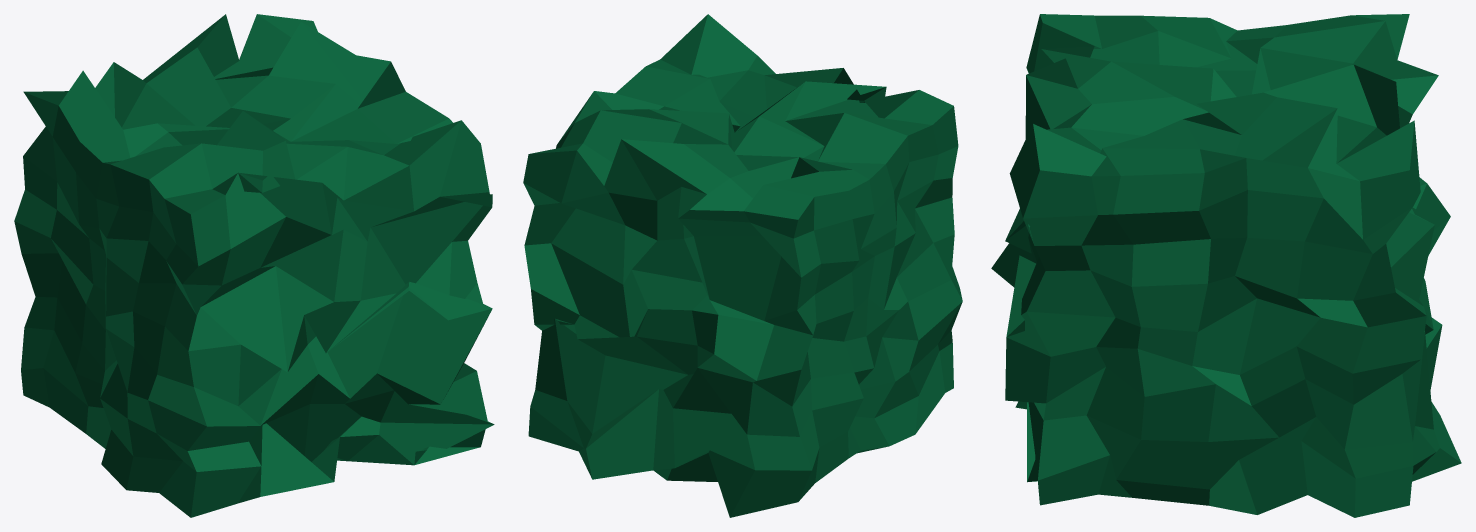
Rendered from Bush.fbx.
3 renders of one model, left to right at view 1: azimuth 30°, elevation 25°; view 2: azimuth 150°, elevation 25°; view 3: azimuth 270°, elevation 25°, orthographic. The views are drawn at different scales.
Visible parts, largest first — view 1: Cube; view 2: Cube; view 3: Cube.
Part boxes in pixels (box(x1,y1,x2,y2)): Cube: box(14, 14, 494, 517); Cube: box(523, 14, 962, 517); Cube: box(991, 14, 1461, 517).
Bounding box in the file's own units: 231 × 247 × 255.
